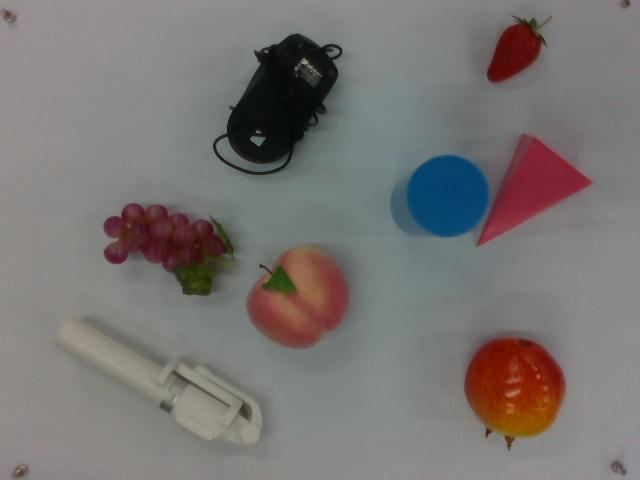cylinder: (390, 153, 494, 242)
grape: (100, 199, 233, 301)
mouse: (209, 32, 345, 179)
peach: (246, 240, 353, 353)
pomegranate: (464, 331, 569, 455)
pyramid: (473, 133, 602, 255)
selfiestick: (55, 313, 266, 453)
strawberry: (484, 12, 557, 90)
